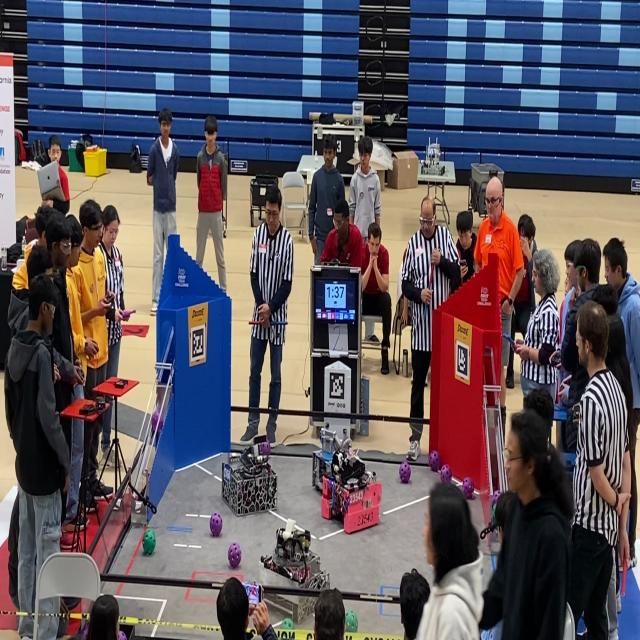artifact_green: (143, 530, 155, 554), (346, 610, 358, 632), (281, 618, 294, 630), (491, 490, 500, 507), (81, 621, 88, 639), (491, 504, 496, 523)
artifact_purple: (227, 542, 241, 569), (151, 407, 163, 432), (210, 512, 222, 536), (462, 477, 474, 499), (399, 461, 411, 483), (429, 450, 440, 472), (440, 465, 452, 483), (259, 441, 270, 457), (491, 491, 500, 508), (82, 622, 88, 639), (118, 631, 126, 639)
